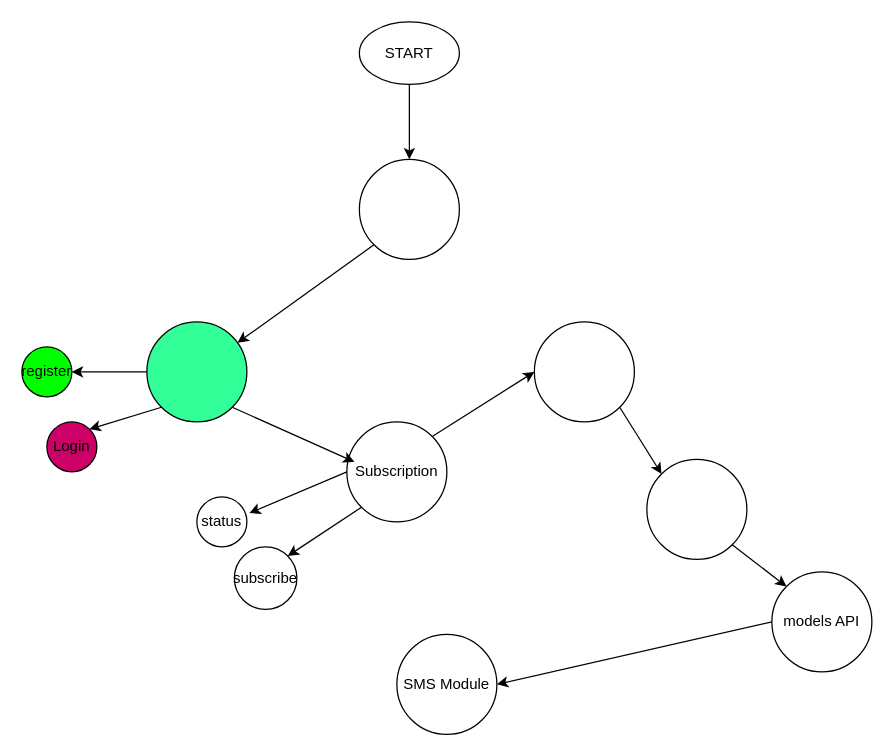
Image size: 894x756. Some labels were removed from this diagram. Each missing label, with the centre of its shape:
Dashboard API (Tier Information): [696,508]
Payments API: [583,371]
User Auth API: [408,208]
User Info API: [196,371]
